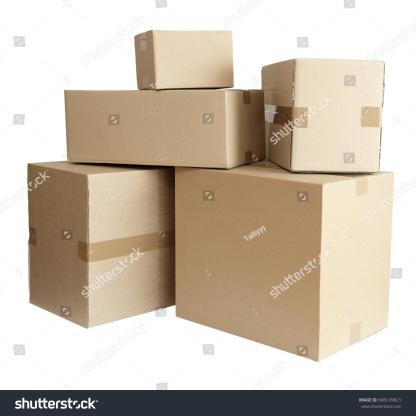box: (176, 167, 321, 363), (62, 90, 229, 170), (290, 59, 383, 173), (28, 163, 91, 330), (152, 30, 234, 90)
